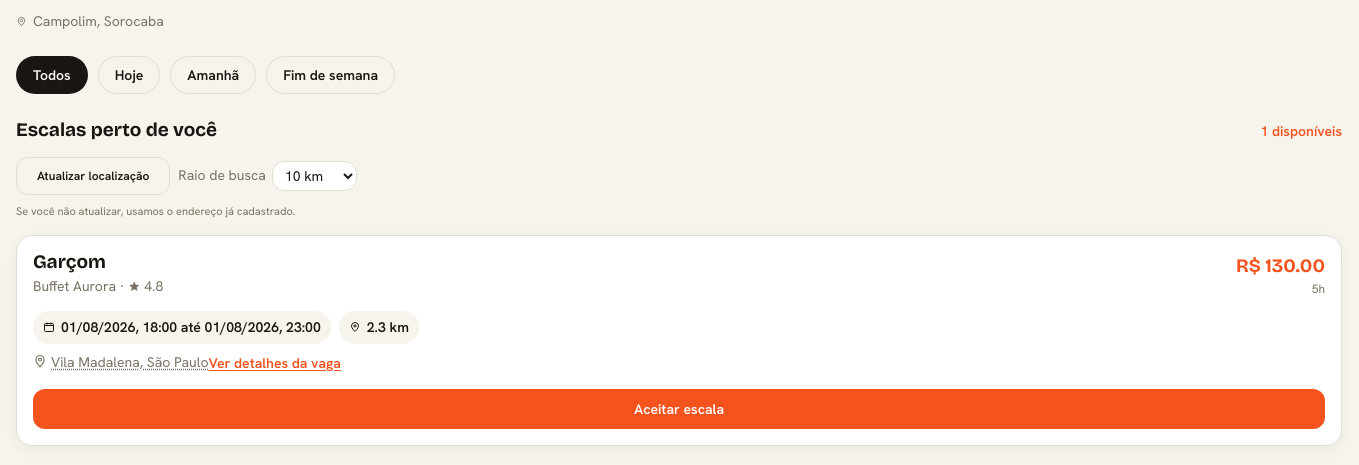
it: InicioPage › candidata-se e mostra confirmação quando a API responde bem
The width and height of the screenshot is (1359, 465).
Expected: the text "Garçom" is shown, [33,250,106,273]
Click the button "Aceitar escala".
click(679, 409)  # box [33,389,1325,429]
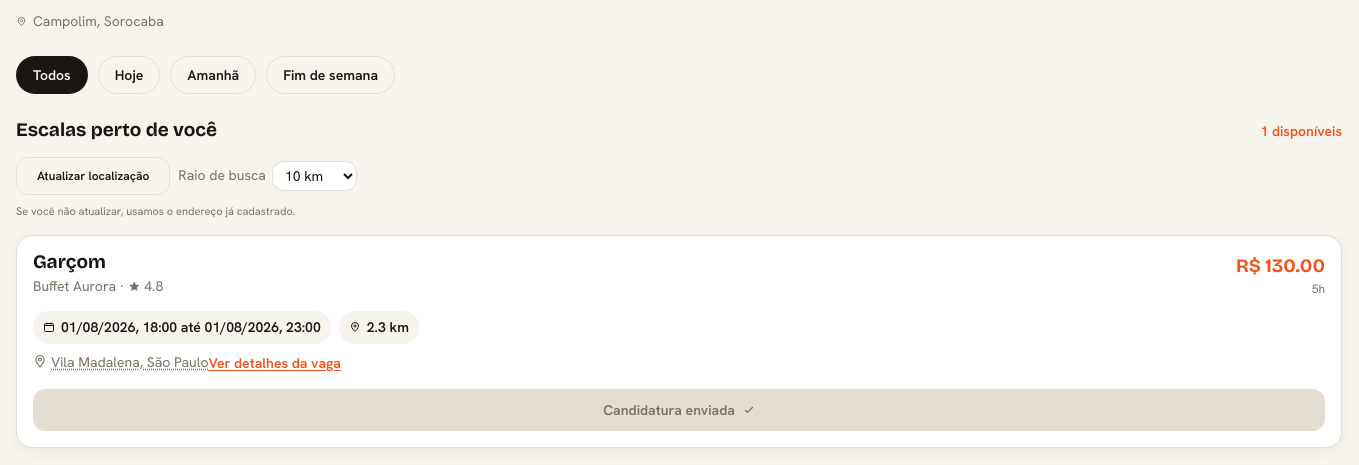
Expected: the button "Candidatura enviada" is disabled, [33,389,1325,431]
